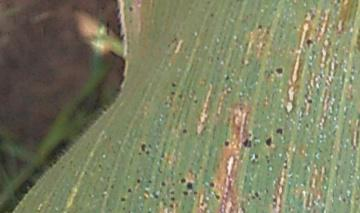tarspot: (242, 138, 254, 150), (264, 135, 274, 148), (305, 38, 316, 48), (221, 140, 233, 149), (274, 126, 286, 135), (275, 66, 285, 76), (151, 190, 161, 200), (138, 142, 147, 153), (133, 177, 144, 186), (339, 195, 350, 204), (180, 126, 189, 136), (127, 4, 135, 14), (184, 182, 194, 190), (255, 22, 264, 30), (222, 74, 231, 82), (181, 189, 190, 197), (178, 176, 187, 184), (208, 181, 217, 189), (159, 180, 167, 189), (281, 159, 291, 166), (213, 193, 221, 201), (125, 187, 133, 195), (167, 202, 175, 210), (192, 98, 200, 106), (305, 97, 314, 104), (252, 190, 261, 197), (169, 89, 176, 97), (209, 12, 216, 20), (146, 178, 154, 185), (119, 197, 128, 203), (168, 196, 177, 202), (169, 190, 178, 196), (170, 81, 177, 88), (192, 190, 199, 197), (177, 93, 183, 101), (144, 150, 152, 155), (334, 1, 343, 5), (283, 165, 289, 171), (137, 151, 143, 156), (272, 197, 277, 203)
